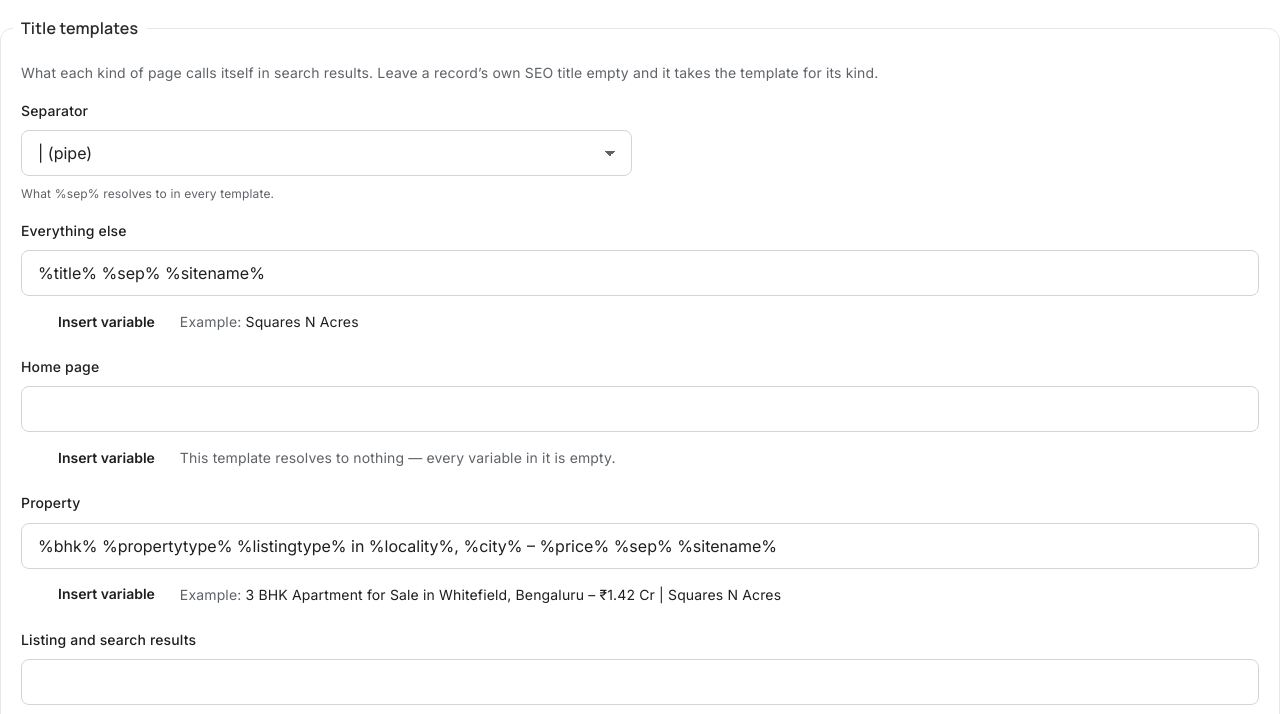
the property title template › updates the example while the template is typed
Expected: the text "3 BHK Apartment for Sale in Whitefield" is shown, left=246, top=586, right=781, bottom=602
Step 1. Replace the text in the field labelled "Property" with "%bhk% in %locality% %sep% %sitename%" → point(640, 546), box left=21, top=523, right=1259, bottom=569
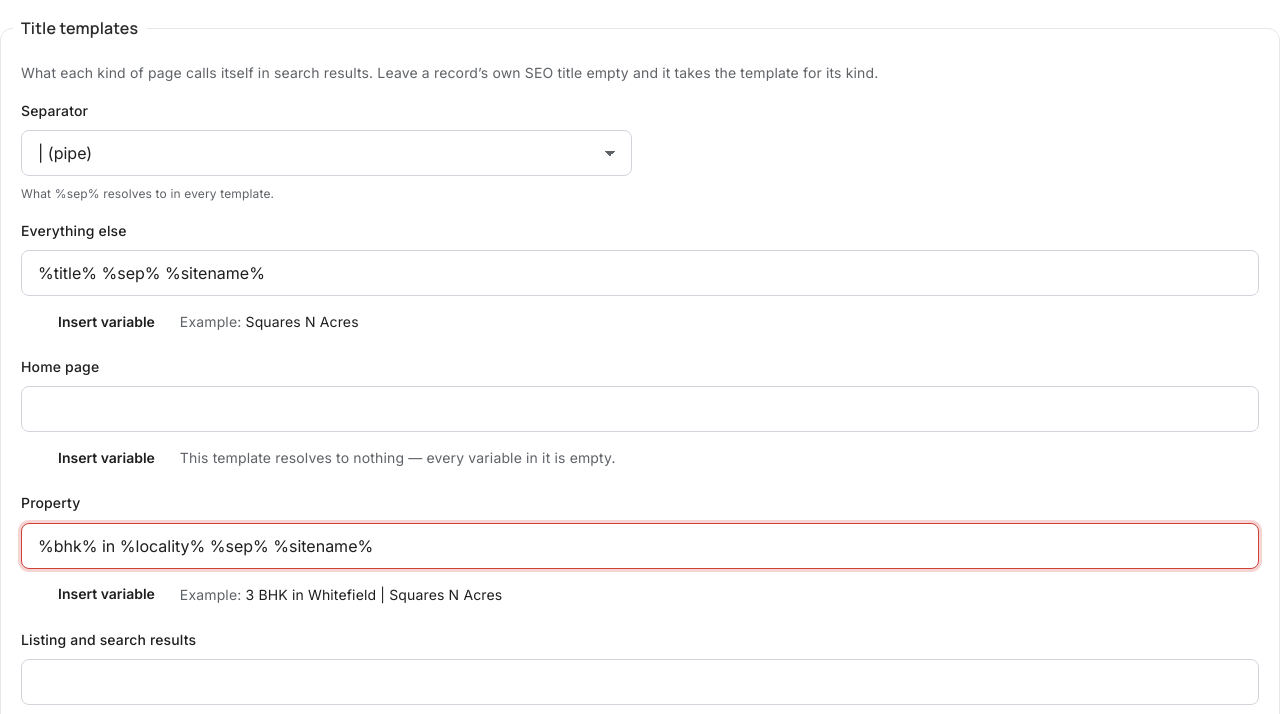
Expected: the text "3 BHK in Whitefield | Squares N Acres" is shown, left=246, top=586, right=502, bottom=602
